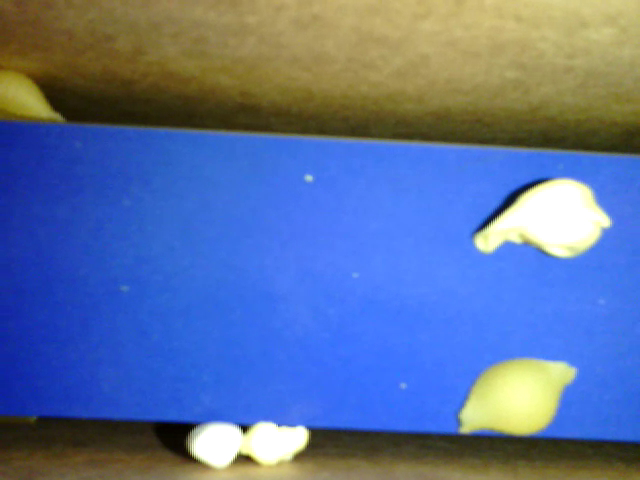shell: (459, 358, 578, 436), (2, 68, 68, 125)
